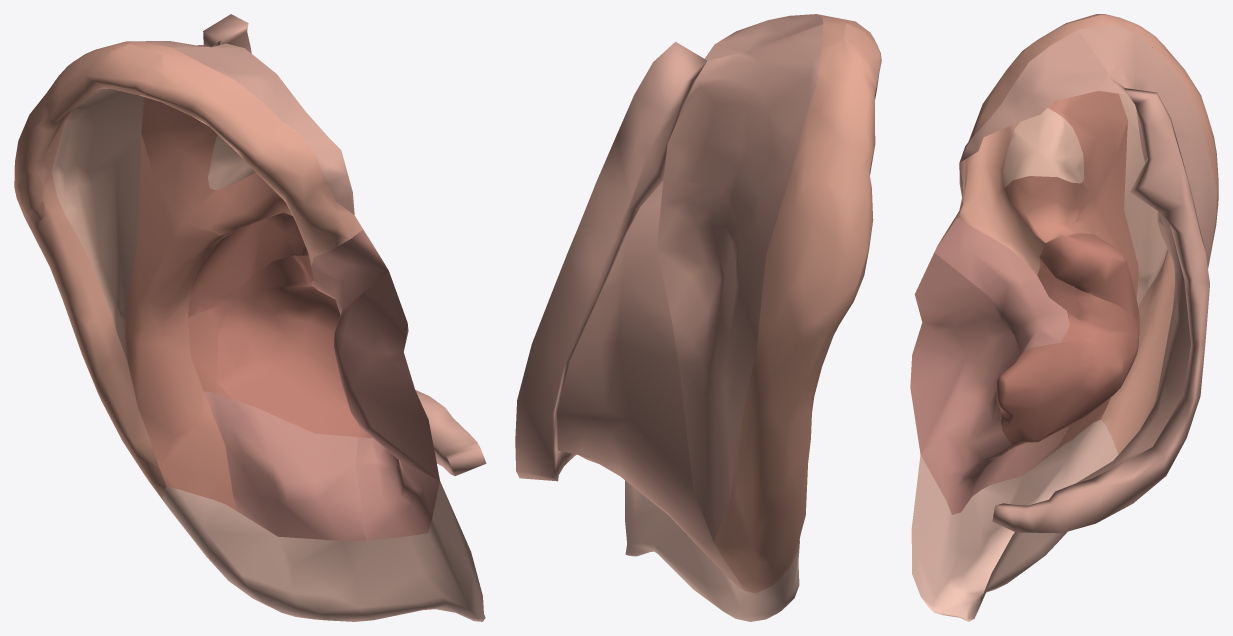
File: ear.glb
The picture shows the model from 3 angles, left to right: view 1: azimuth 30°, elevation 25°; view 2: azimuth 150°, elevation 25°; view 3: azimuth 270°, elevation 25°; orthographic projection. The views are drawn at different scales.
Parts seen in each view (by area): view 1: tragus, helix, antihelix, concha, lobule, scapha-and-fossa, back-of-auricle; view 2: back-of-auricle, helix, lobule; view 3: back-of-auricle, tragus, concha, lobule, helix, antihelix, scapha-and-fossa.
Boxes of the visible parts, x1=… form: tragus: x1=204, y1=229, x2=439, y2=540; helix: x1=14, y1=41, x2=362, y2=505; antihelix: x1=125, y1=97, x2=292, y2=510; concha: x1=188, y1=212, x2=372, y2=438; lobule: x1=163, y1=481, x2=485, y2=621; scapha-and-fossa: x1=51, y1=88, x2=255, y2=361; back-of-auricle: x1=139, y1=14, x2=486, y2=475; back-of-auricle: x1=515, y1=14, x2=823, y2=590; helix: x1=714, y1=14, x2=881, y2=593; lobule: x1=625, y1=480, x2=799, y2=621; back-of-auricle: x1=959, y1=25, x2=1216, y2=533; tragus: x1=910, y1=217, x2=1069, y2=514; concha: x1=996, y1=233, x2=1139, y2=445; lobule: x1=911, y1=419, x2=1118, y2=621; helix: x1=956, y1=14, x2=1218, y2=454; antihelix: x1=1004, y1=78, x2=1138, y2=451; scapha-and-fossa: x1=1003, y1=83, x2=1167, y2=306.
Size of the model in its own units: 1.86 by 2.79 by 1.57.
